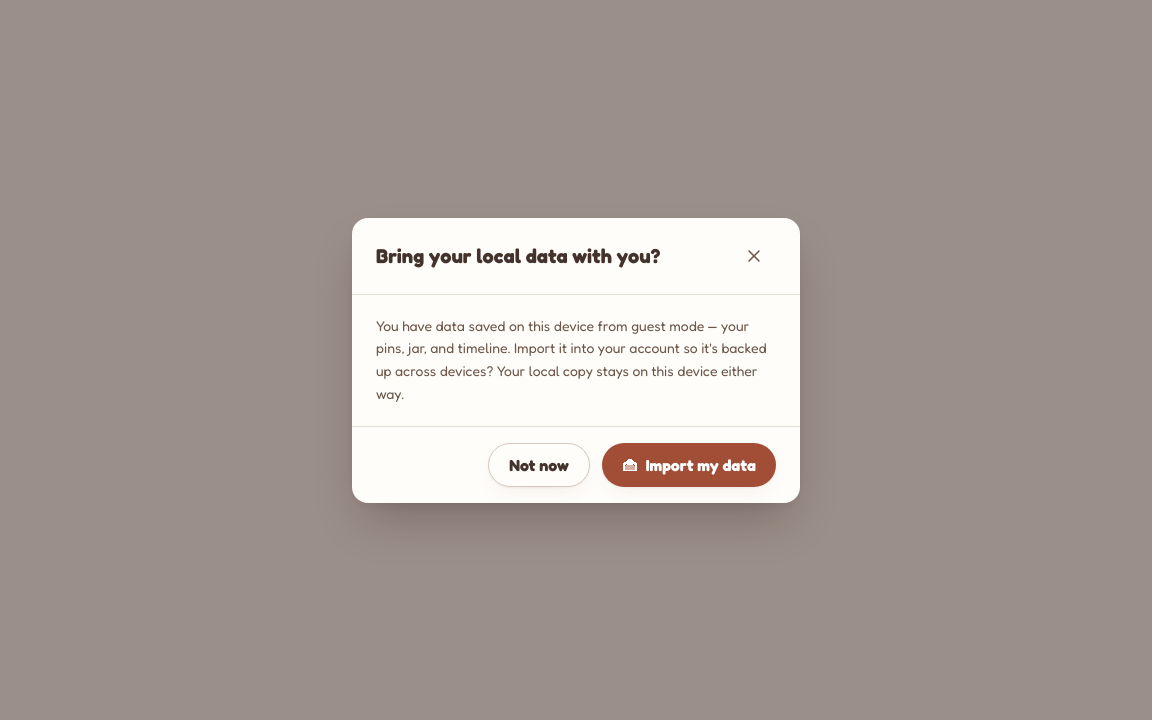
MigrationPrompt › shows an error and keeps the modal open when the import fails
Click the button "Import my data" at (689, 464), box [602,442,776,486]
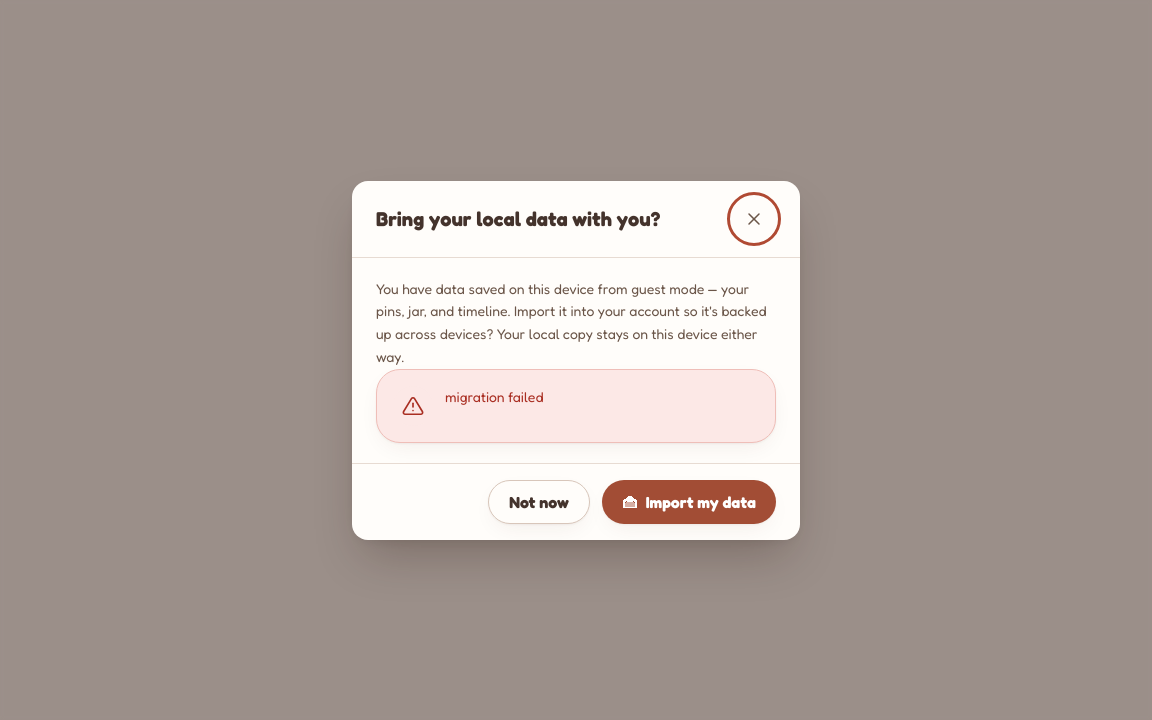
Check: the dialog is shown, box [352,180,800,540]
Check: the text "migration failed" is shown, box [445,388,544,404]
